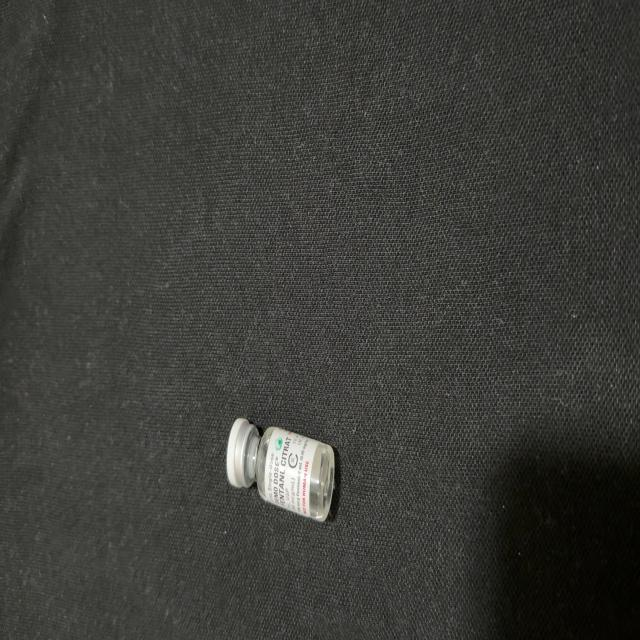fentanl_citrat: (228, 419, 338, 521)
